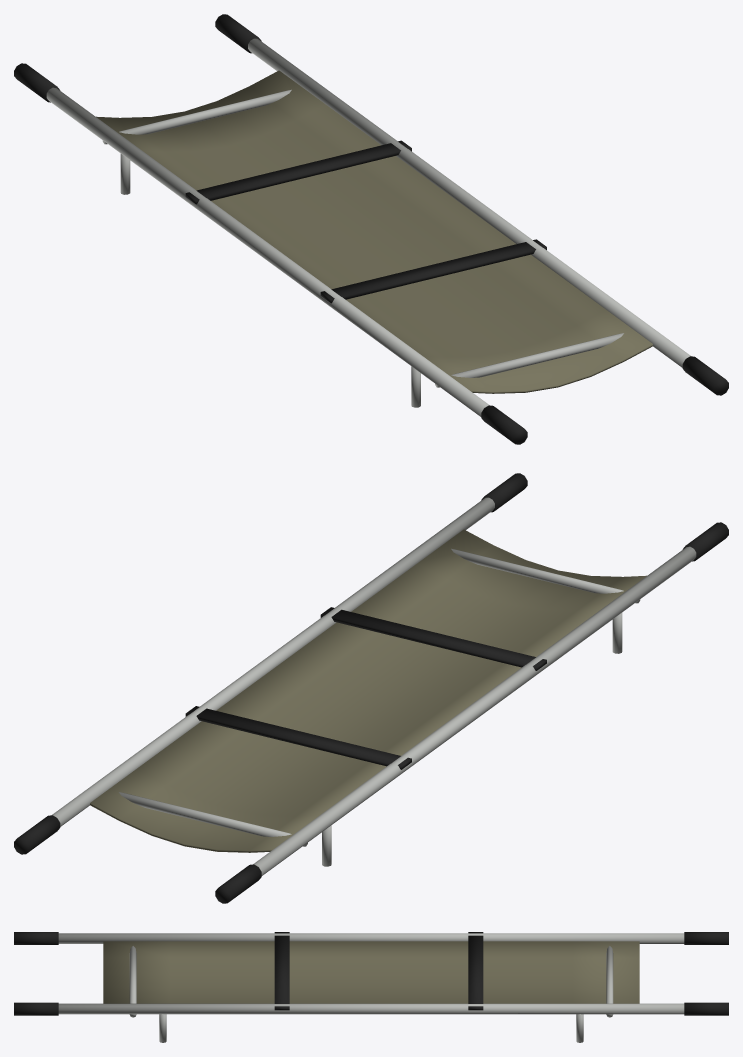
The model's file is stretcher.glb.
3 views of the same model, one above another, from view 1: azimuth 30°, elevation 25°; view 2: azimuth 150°, elevation 25°; view 3: azimuth 270°, elevation 25° (orthographic). The views are drawn at different scales.
Parts seen in each view (by area): view 1: canvas, pole.002, pole.001, strap.001, strap.002, spreader.001, spreader, grip.005, grip.003, grip.004, grip.006; view 2: canvas, pole.002, pole.001, strap.002, strap.001, spreader, spreader.001, grip.006, grip.004, grip.003, grip.005; view 3: canvas, pole.001, pole.002, strap.001, strap.002, grip.003, grip.004, grip.005, grip.006, spreader, spreader.001, foot (+1 smaller).
Part boxes in pixels (left/top/right/bottom): canvas: left=96, top=70, right=652, bottom=393; pole.002: left=46, top=87, right=489, bottom=416; pole.001: left=248, top=38, right=690, bottom=367; strap.001: left=320, top=239, right=546, bottom=303; strap.002: left=185, top=140, right=411, bottom=204; spreader.001: left=102, top=89, right=291, bottom=144; spreader: left=435, top=333, right=623, bottom=387; grip.005: left=481, top=405, right=527, bottom=444; grip.003: left=682, top=356, right=728, bottom=395; grip.004: left=215, top=14, right=261, bottom=53; grip.006: left=14, top=63, right=60, bottom=102; canvas: left=90, top=529, right=646, bottom=852; pole.002: left=253, top=546, right=696, bottom=875; pole.001: left=52, top=497, right=494, bottom=826; strap.002: left=185, top=706, right=411, bottom=769; strap.001: left=320, top=607, right=546, bottom=670; spreader: left=451, top=548, right=640, bottom=603; spreader.001: left=119, top=792, right=307, bottom=846; grip.006: left=215, top=864, right=261, bottom=903; grip.004: left=14, top=815, right=60, bottom=854; grip.003: left=481, top=473, right=527, bottom=512; grip.005: left=682, top=522, right=728, bottom=561; canvas: left=103, top=941, right=639, bottom=1003; pole.001: left=58, top=1003, right=684, bottom=1014; pole.002: left=58, top=933, right=684, bottom=943; strap.001: left=274, top=932, right=289, bottom=1010; strap.002: left=468, top=932, right=483, bottom=1010; grip.003: left=14, top=1002, right=58, bottom=1015; grip.004: left=684, top=1002, right=728, bottom=1015; grip.005: left=14, top=932, right=58, bottom=944; grip.006: left=684, top=932, right=728, bottom=944; spreader: left=129, top=946, right=136, bottom=1017; spreader.001: left=606, top=946, right=613, bottom=1017; foot: left=159, top=1014, right=166, bottom=1042.
Bounding box in the file's own units: 0.6018 × 0.142 × 2.4.
